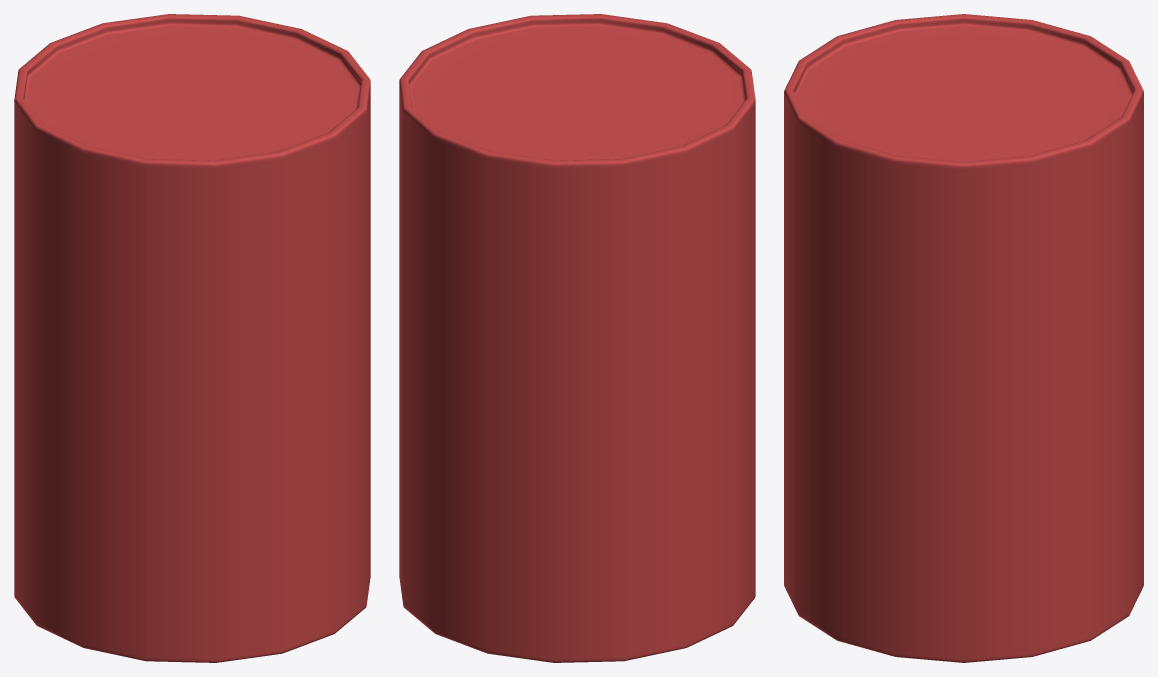
Rendered from Tall_Can.fbx.
The picture shows the model from 3 angles, left to right: view 1: azimuth 30°, elevation 25°; view 2: azimuth 150°, elevation 25°; view 3: azimuth 270°, elevation 25°; orthographic projection.
Parts seen in each view (by area): view 1: Fat_Can; view 2: Fat_Can; view 3: Fat_Can.
Boxes of the visible parts, left/top/right/bottom form: Fat_Can: left=14, top=14, right=370, bottom=662; Fat_Can: left=399, top=14, right=755, bottom=662; Fat_Can: left=784, top=14, right=1143, bottom=662.
Size of the model in its own units: 2.79 by 4.27 by 2.79.
